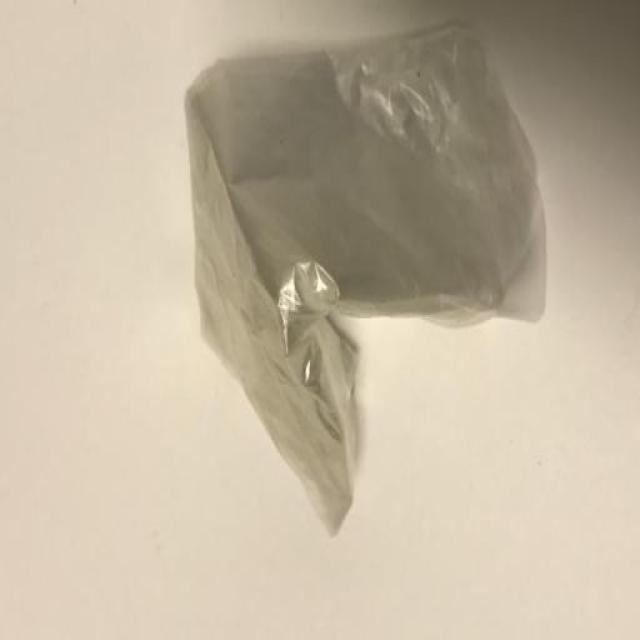Random Trash: (184, 18, 549, 535)
